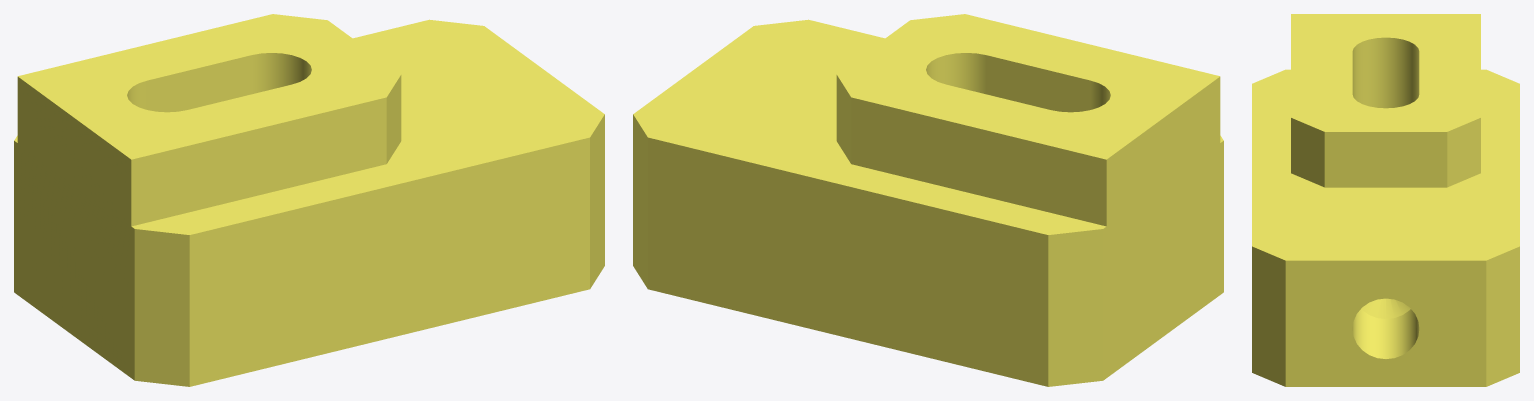
3 views of the same model, side by side, from view 1: azimuth 30°, elevation 25°; view 2: azimuth 150°, elevation 25°; view 3: azimuth 270°, elevation 25° (orthographic). The views are drawn at different scales.
Visible parts, largest first — view 1: 627; view 2: 627; view 3: 627.
Boxes of the visible parts, left/top/right/bottom form: 627: left=14, top=14, right=604, bottom=386; 627: left=633, top=14, right=1223, bottom=386; 627: left=1252, top=14, right=1519, bottom=386.
Size of the model in its own units: 0.081 by 0.036 by 0.048.
